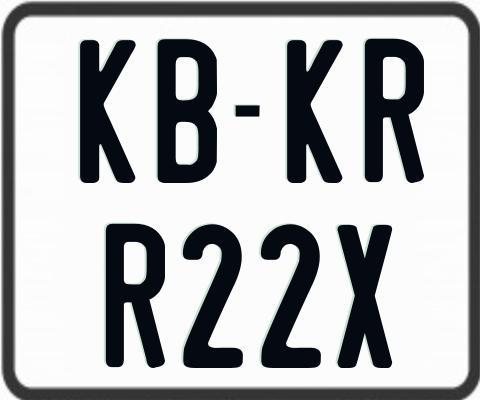2: (183, 224, 244, 370), (261, 223, 321, 367)
B: (158, 37, 223, 184)
K: (285, 38, 347, 183), (77, 38, 138, 184)
R: (103, 222, 168, 368), (363, 36, 423, 183)
X: (337, 222, 397, 370)
